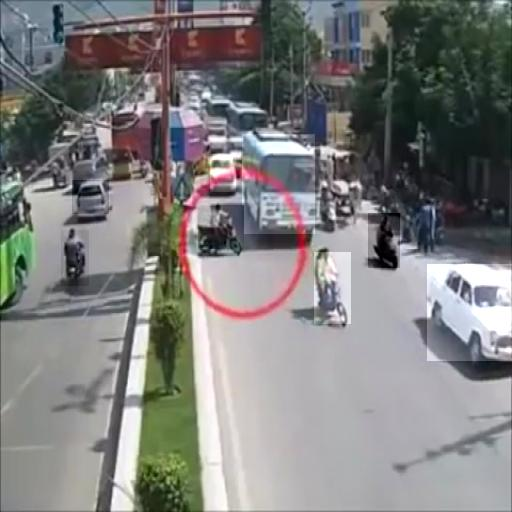小汽车: (427, 264, 512, 361), (242, 134, 315, 234), (72, 180, 109, 214), (210, 154, 236, 192)
自行车: (314, 252, 351, 324), (198, 205, 244, 253), (368, 213, 400, 268), (61, 230, 89, 286)
